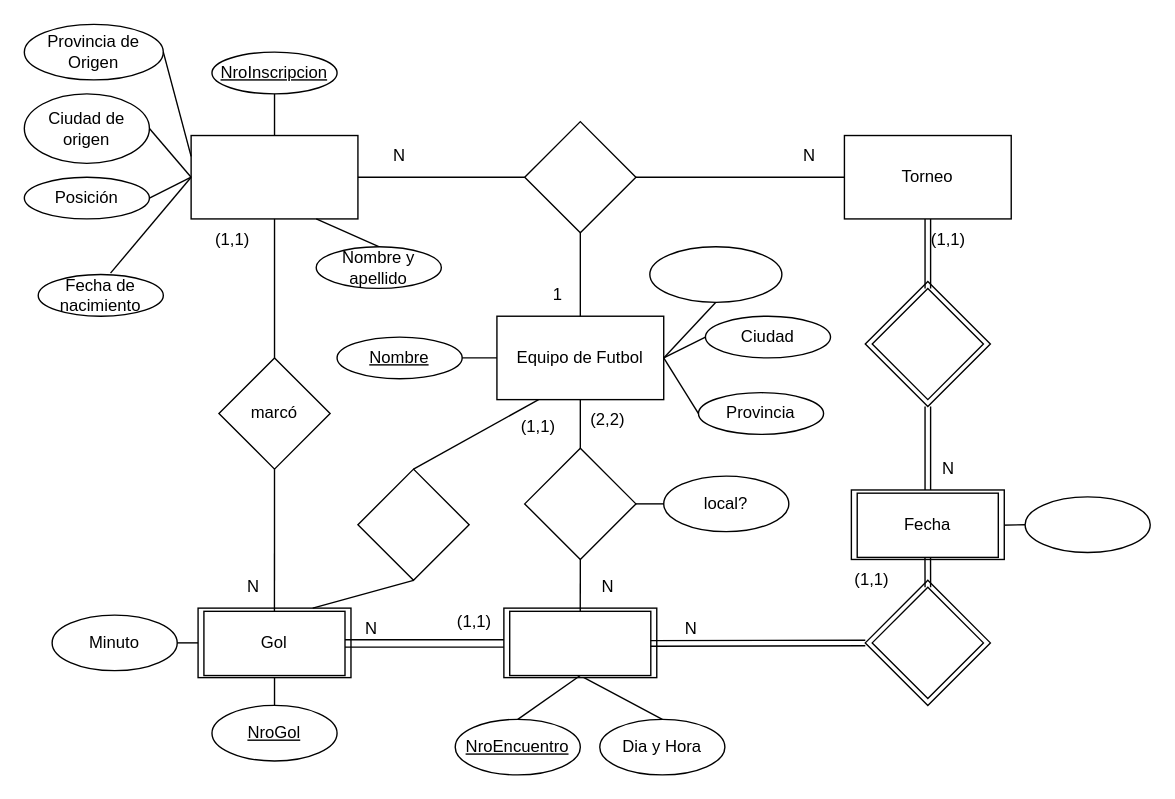
This 1175x799 diagram has some shape labels left out. The centre of each missing label's shape, as x and y in pixels:
A favor de: the point at 413,524
Encuentro: the point at 579,643
FechaInscipcion: the point at 715,273
juega en: the point at 579,503
Jugador: the point at 274,176
NroFecha: the point at 1087,524
participa en: the point at 579,176
se disputa: the point at 927,642
Tiene: the point at 927,343
